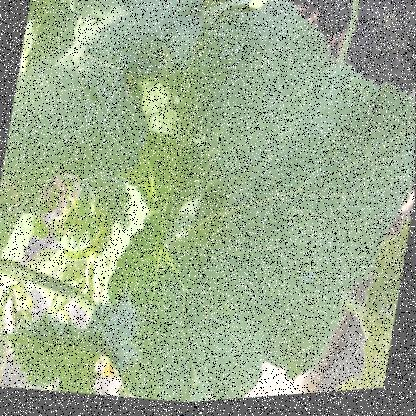Normal: (130, 42, 415, 407)
